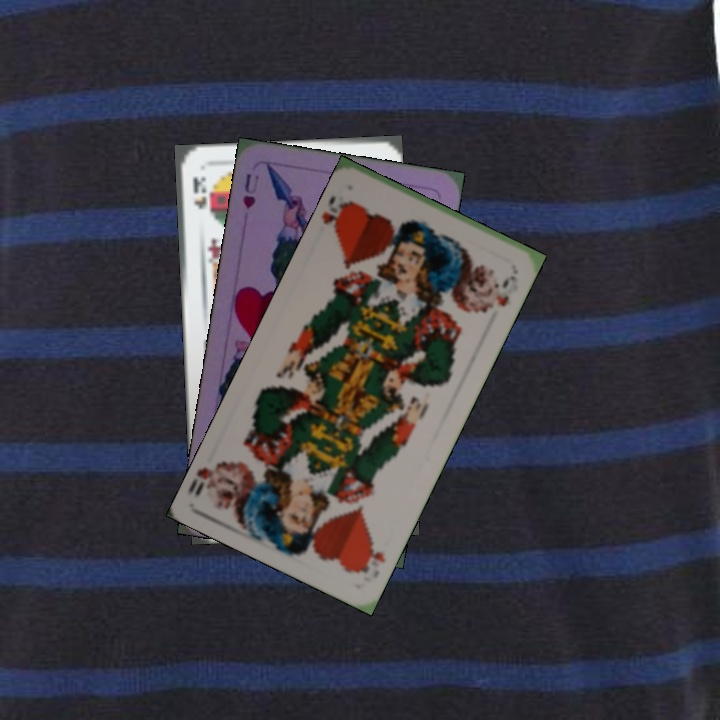HO: (318, 192, 356, 240), (353, 537, 388, 576)
HU: (239, 169, 261, 212)
SK: (188, 172, 209, 212)
